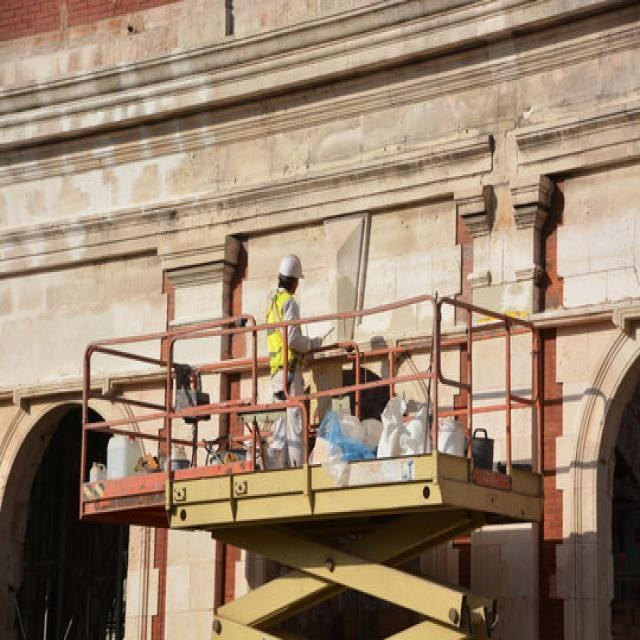Arnes_seguridad: (264, 289, 297, 375)
